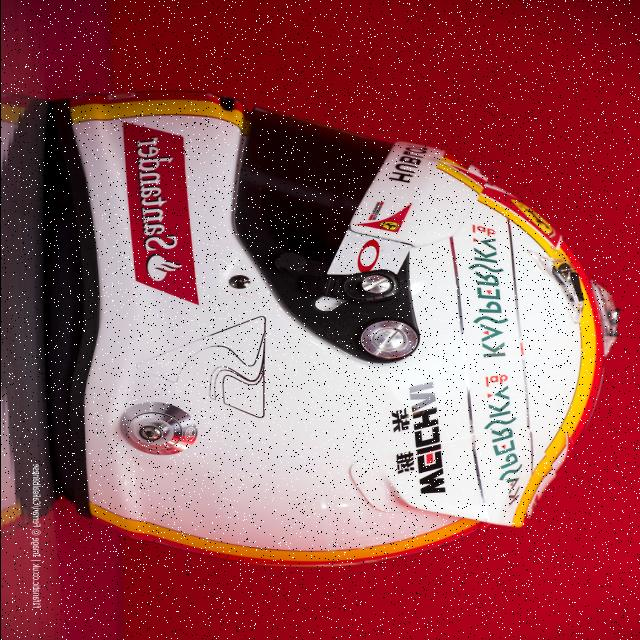Helmet: (28, 89, 618, 565)
